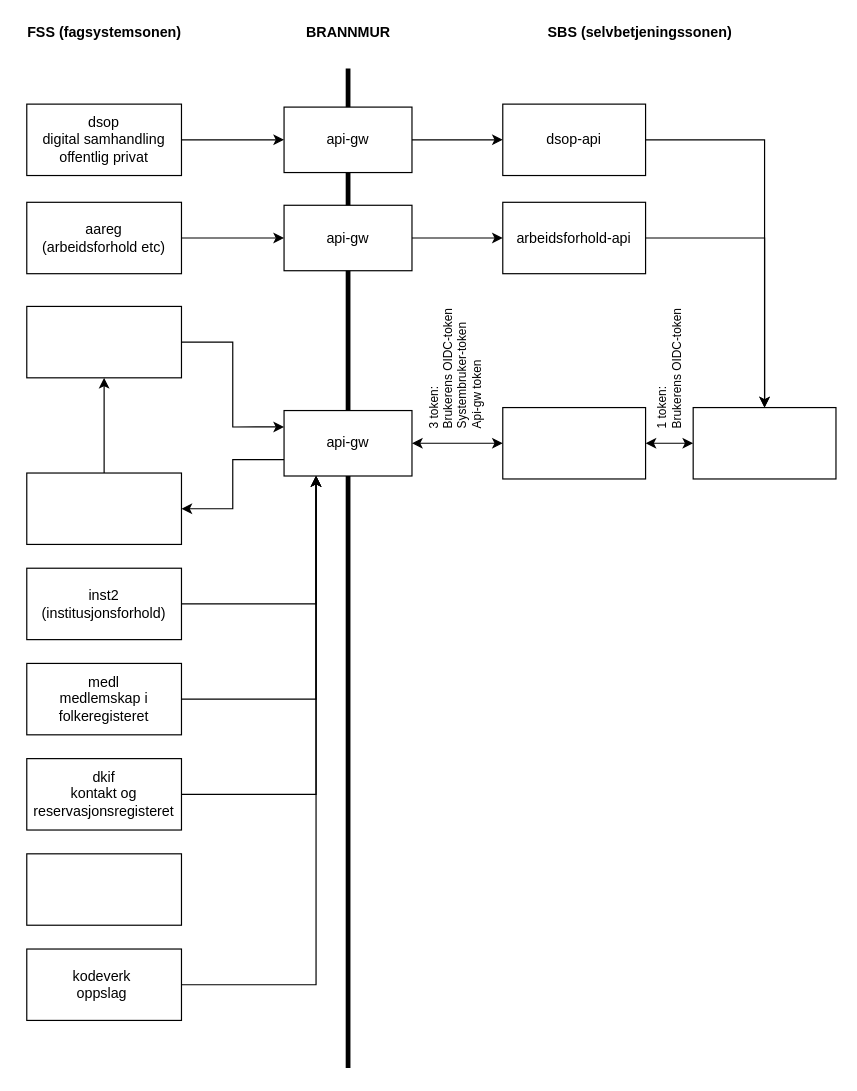
Image size: 857x1091. Some labels were removed from this diagram. Here are the shapes that lost their labels. From the top down, the centre of each, then its label:
the point at 103,341: TPS Tjenestebasert personregistersystem
the point at 574,442: personopplysninger-api
the point at 764,442: personopplysninger
the point at 103,508: PDL persondataløsningen
the point at 103,889: norg2 nav-kontorene, åpningstider etc
